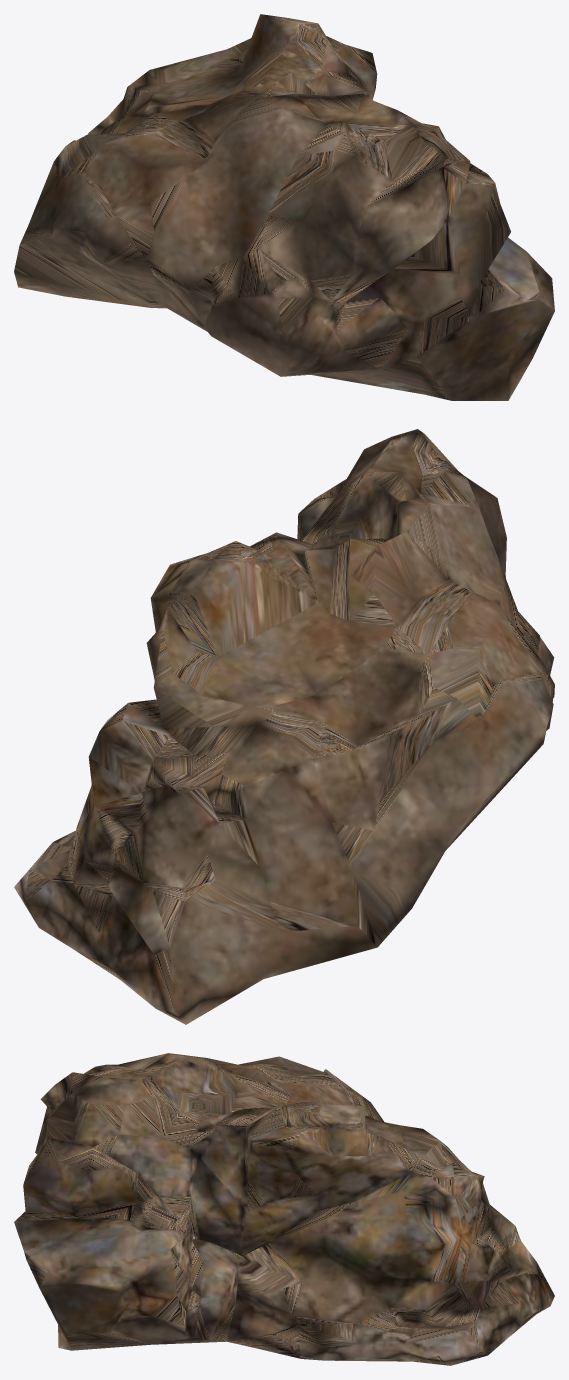
Rendered from tang-da.glb.
3 views of the same model, one above another, from view 1: azimuth 30°, elevation 25°; view 2: azimuth 150°, elevation 25°; view 3: azimuth 270°, elevation 25° (orthographic). The views are drawn at different scales.
Visible parts, largest first — view 1: boulder_01; view 2: boulder_01; view 3: boulder_01.
Part boxes in pixels (<box>): boulder_01: <box>14,14,554,400</box>; boulder_01: <box>14,429,554,1024</box>; boulder_01: <box>14,1053,554,1365</box>.
Size of the model in its own units: 0.6816 by 0.5312 by 0.9917.
Materials: 1 (1 with a texture image).
